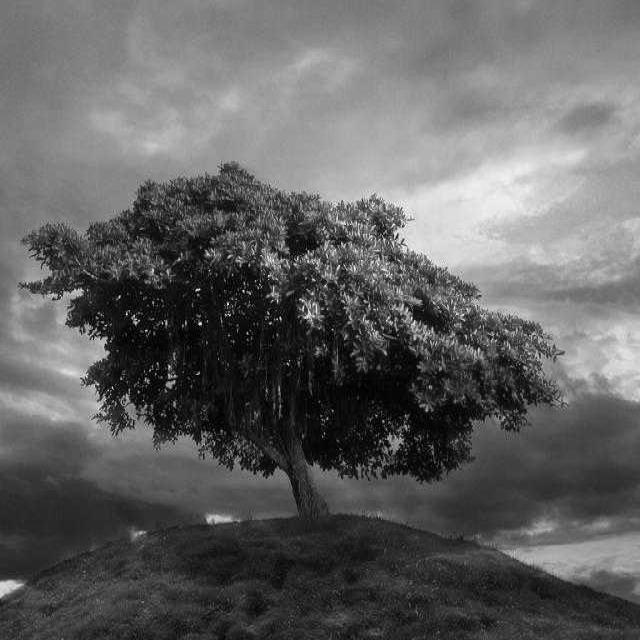Tree: (25, 162, 562, 518)
